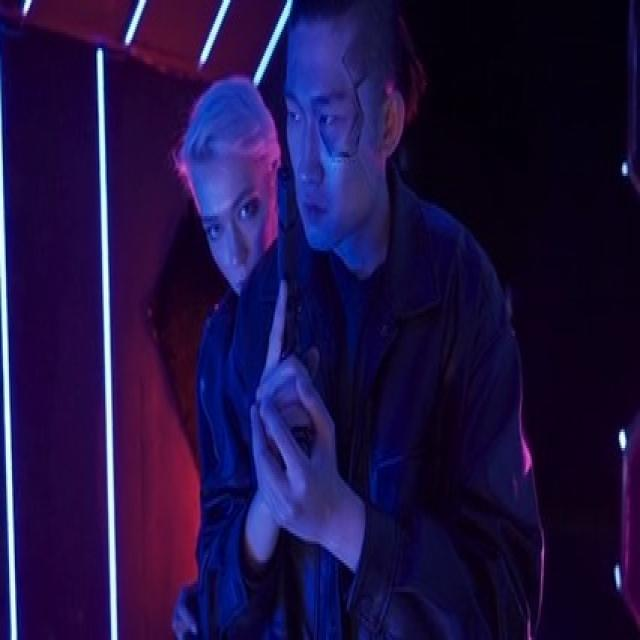Gun_Holder: (246, 159, 340, 528)
Jacket_Wearer: (220, 174, 544, 640)
Person: (234, 0, 540, 640), (172, 69, 298, 639)
